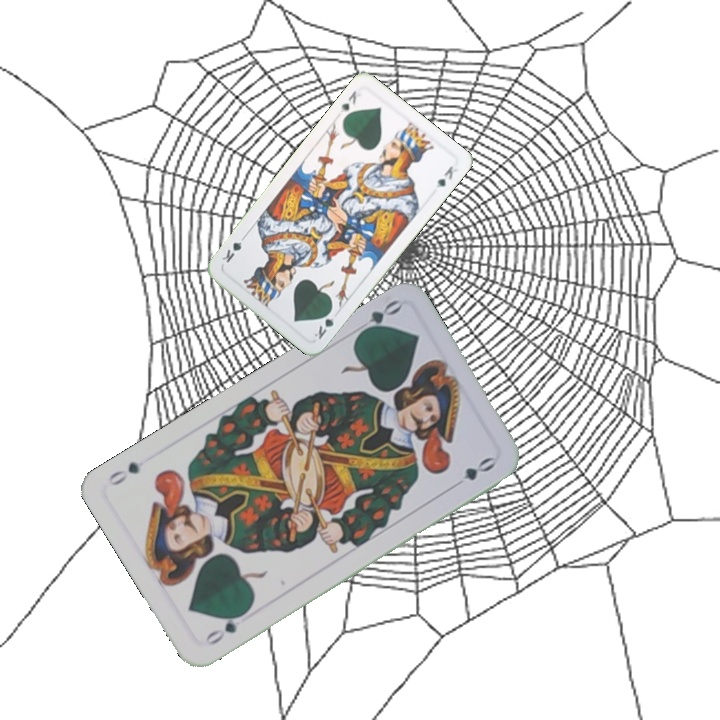GK: (310, 305, 337, 342), (336, 87, 359, 116)
GO: (353, 295, 404, 340), (201, 607, 250, 649)
